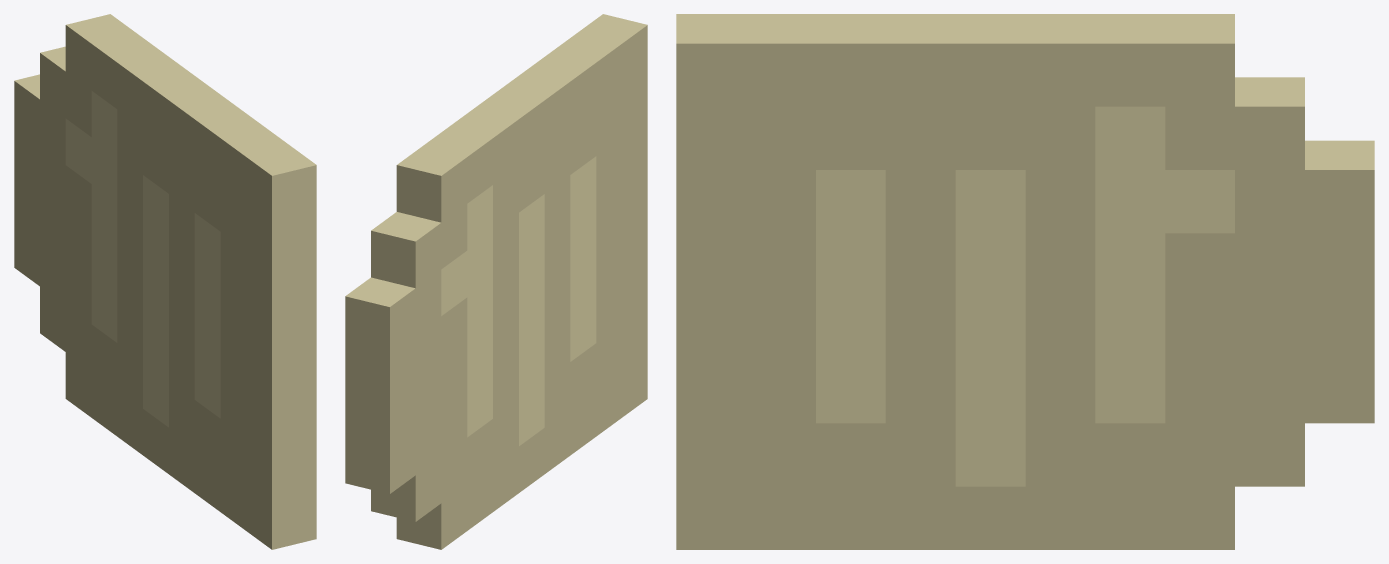
Rendered from Medieval Assets-129-Decoration - Desert - Tablet - Variant1.obj.
3 renders of one model, left to right at view 1: azimuth 30°, elevation 25°; view 2: azimuth 150°, elevation 25°; view 3: azimuth 270°, elevation 25°, orthographic. The views are drawn at different scales.
Visible parts, largest first — view 1: Decoration - Desert - Tablet - Variant1; view 2: Decoration - Desert - Tablet - Variant1; view 3: Decoration - Desert - Tablet - Variant1.
Boxes of the visible parts, bbox=[...] form: Decoration - Desert - Tablet - Variant1: bbox=[14, 14, 316, 549]; Decoration - Desert - Tablet - Variant1: bbox=[345, 14, 647, 549]; Decoration - Desert - Tablet - Variant1: bbox=[676, 14, 1374, 549].
Bounding box in the file's own units: 0.1 × 0.8 × 1.
Materials: 1 (1 with a texture image).
